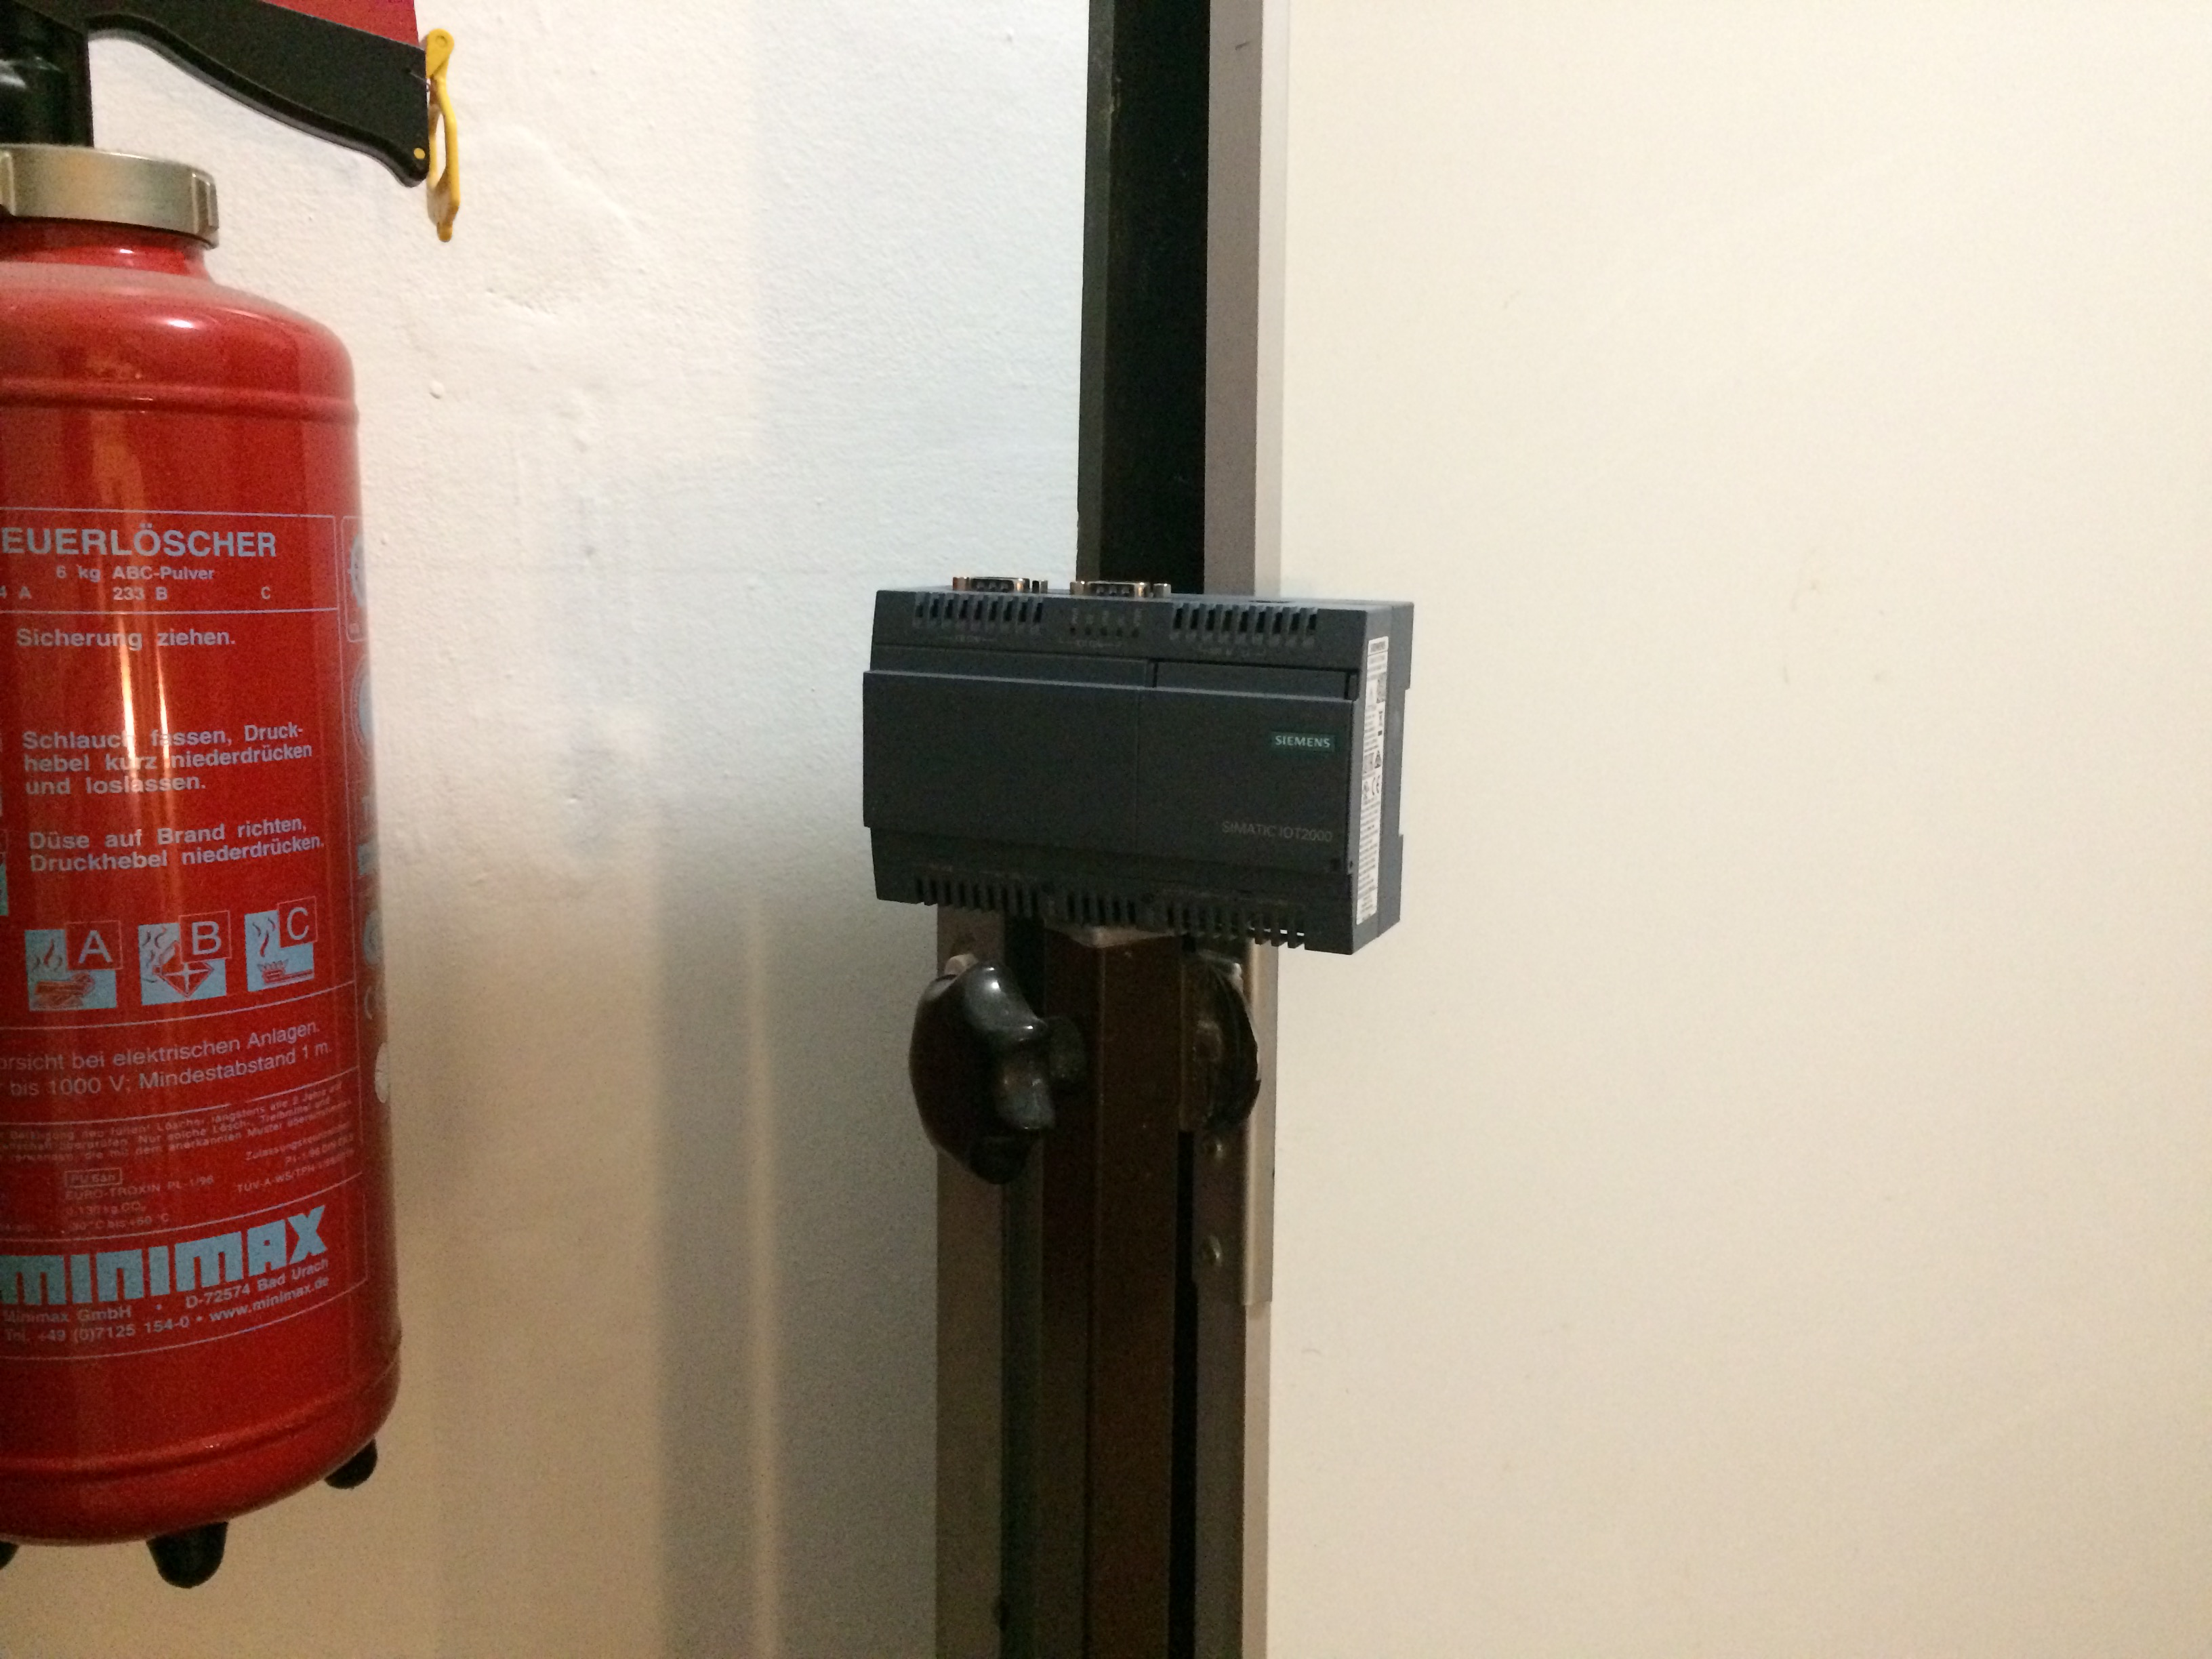iot2000: (859, 570, 1420, 960)
